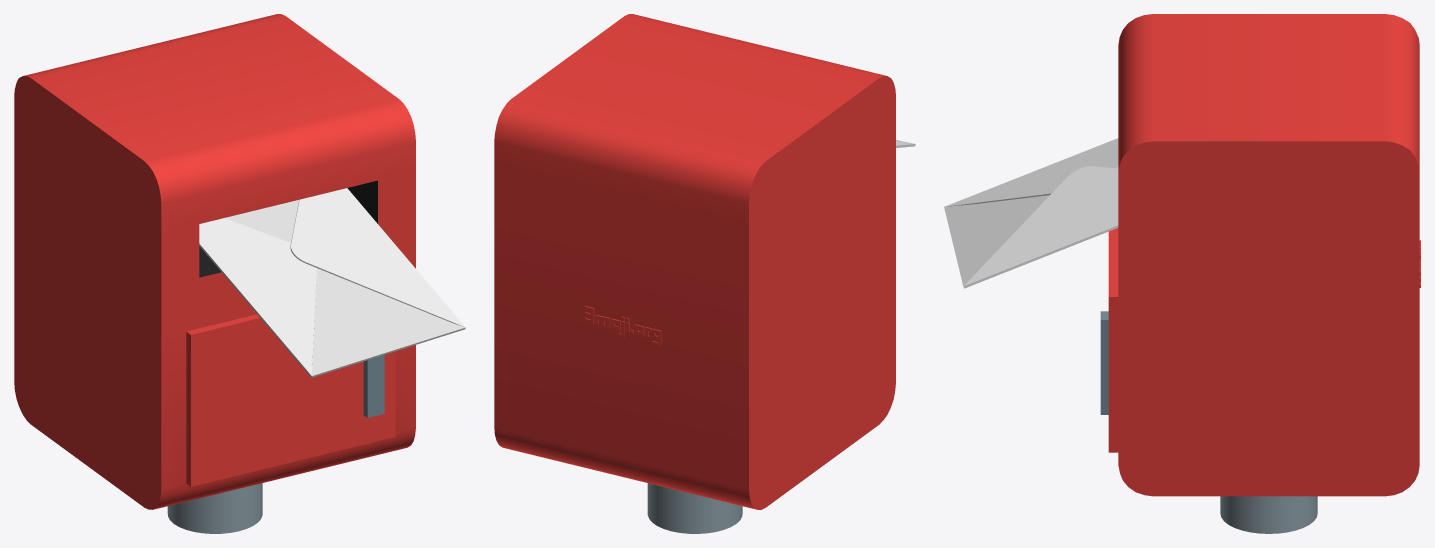
Rendered from postbox.fbx.
3 views of the same model, side by side, from view 1: azimuth 30°, elevation 25°; view 2: azimuth 150°, elevation 25°; view 3: azimuth 270°, elevation 25° (orthographic). The views are drawn at different scales.
Visible parts, largest first — view 1: Cube.974; view 2: Cube.974; view 3: Cube.974.
Boxes of the visible parts, left/top/right/bottom form: Cube.974: left=14, top=14, right=465, bottom=533; Cube.974: left=494, top=14, right=915, bottom=533; Cube.974: left=944, top=14, right=1420, bottom=533.
Size of the model in its own units: 131 by 209 by 207.
Materials: 1 (1 with a texture image).
